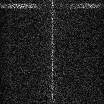wifi: (1, 3, 104, 8)
